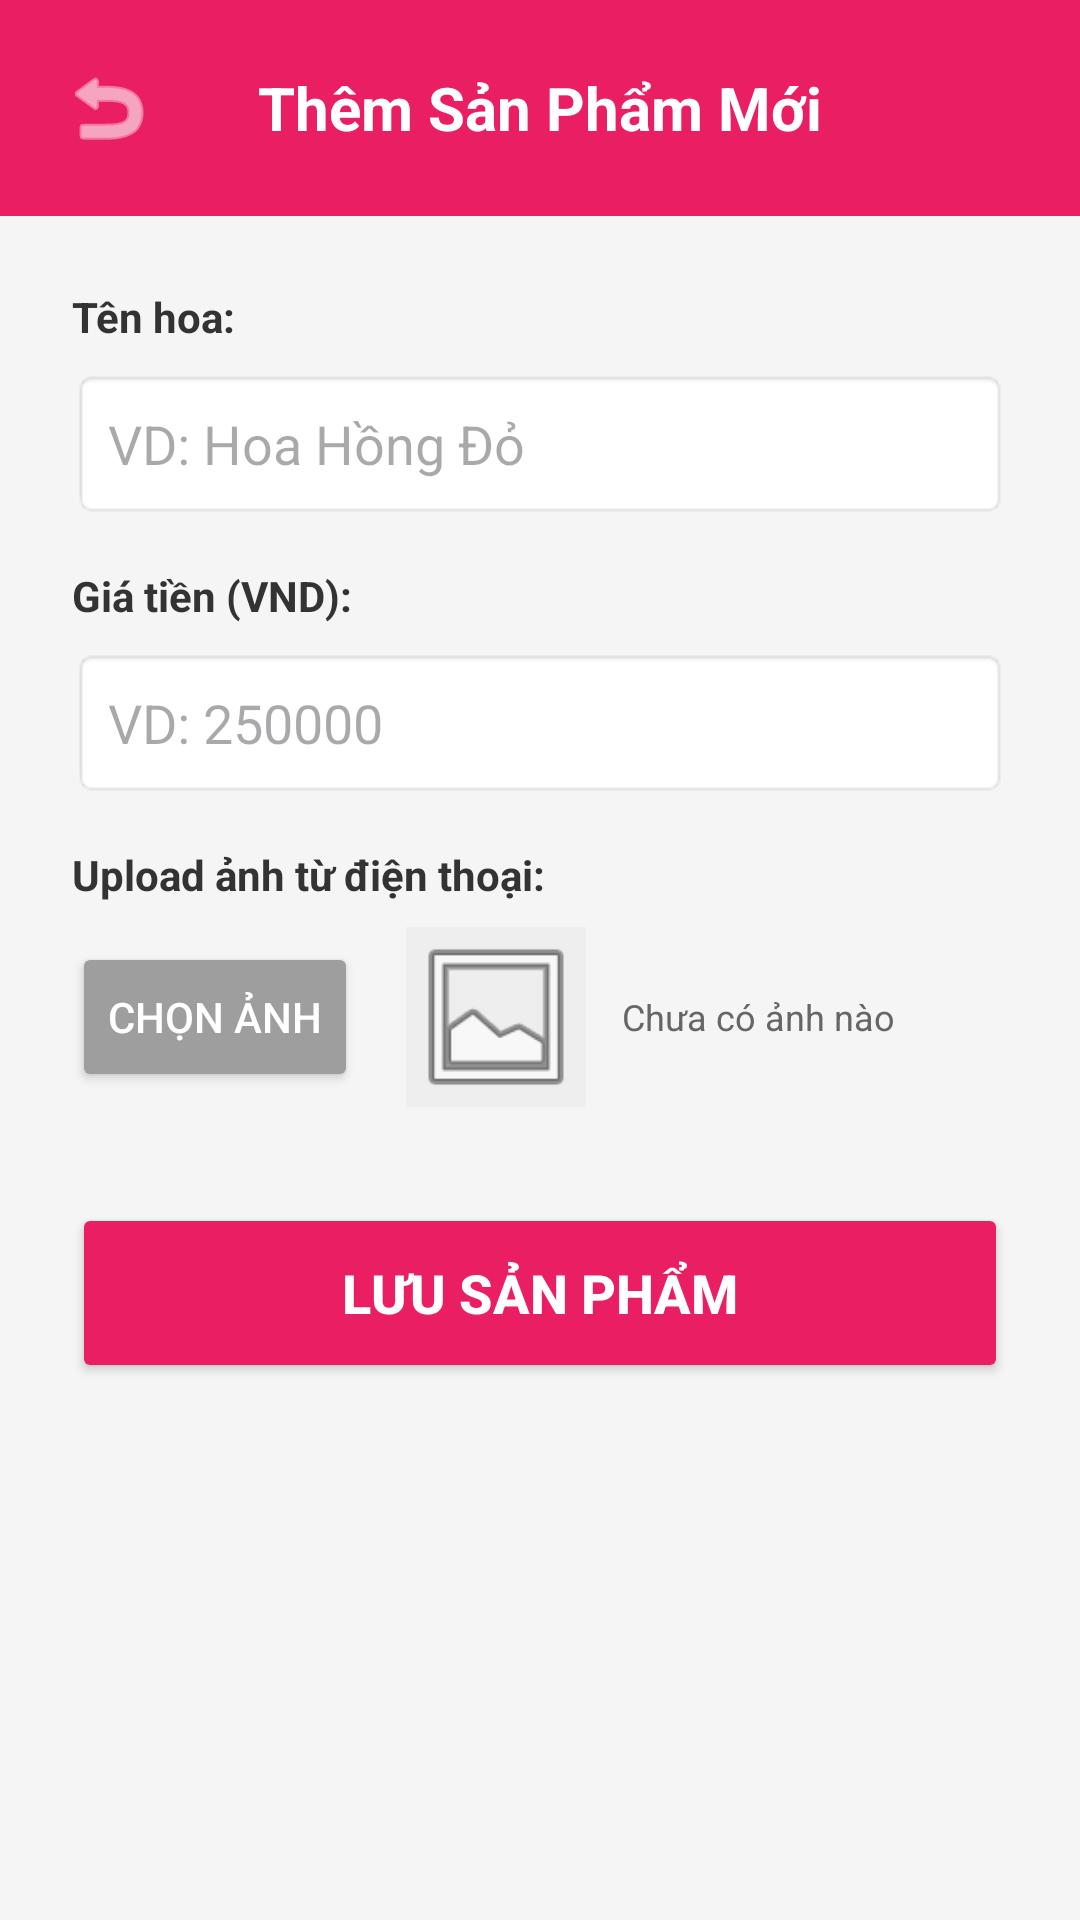

Where icons sit on this 1080×1920 app screen, as (x1, y1, x2, y2):
gallery: (428, 949, 564, 1085)
revert: (75, 77, 144, 140)
